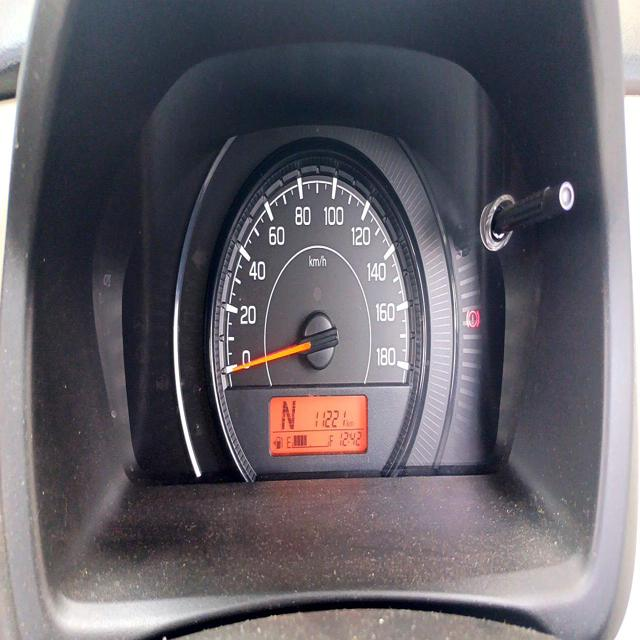odometer: (313, 404, 347, 429)
